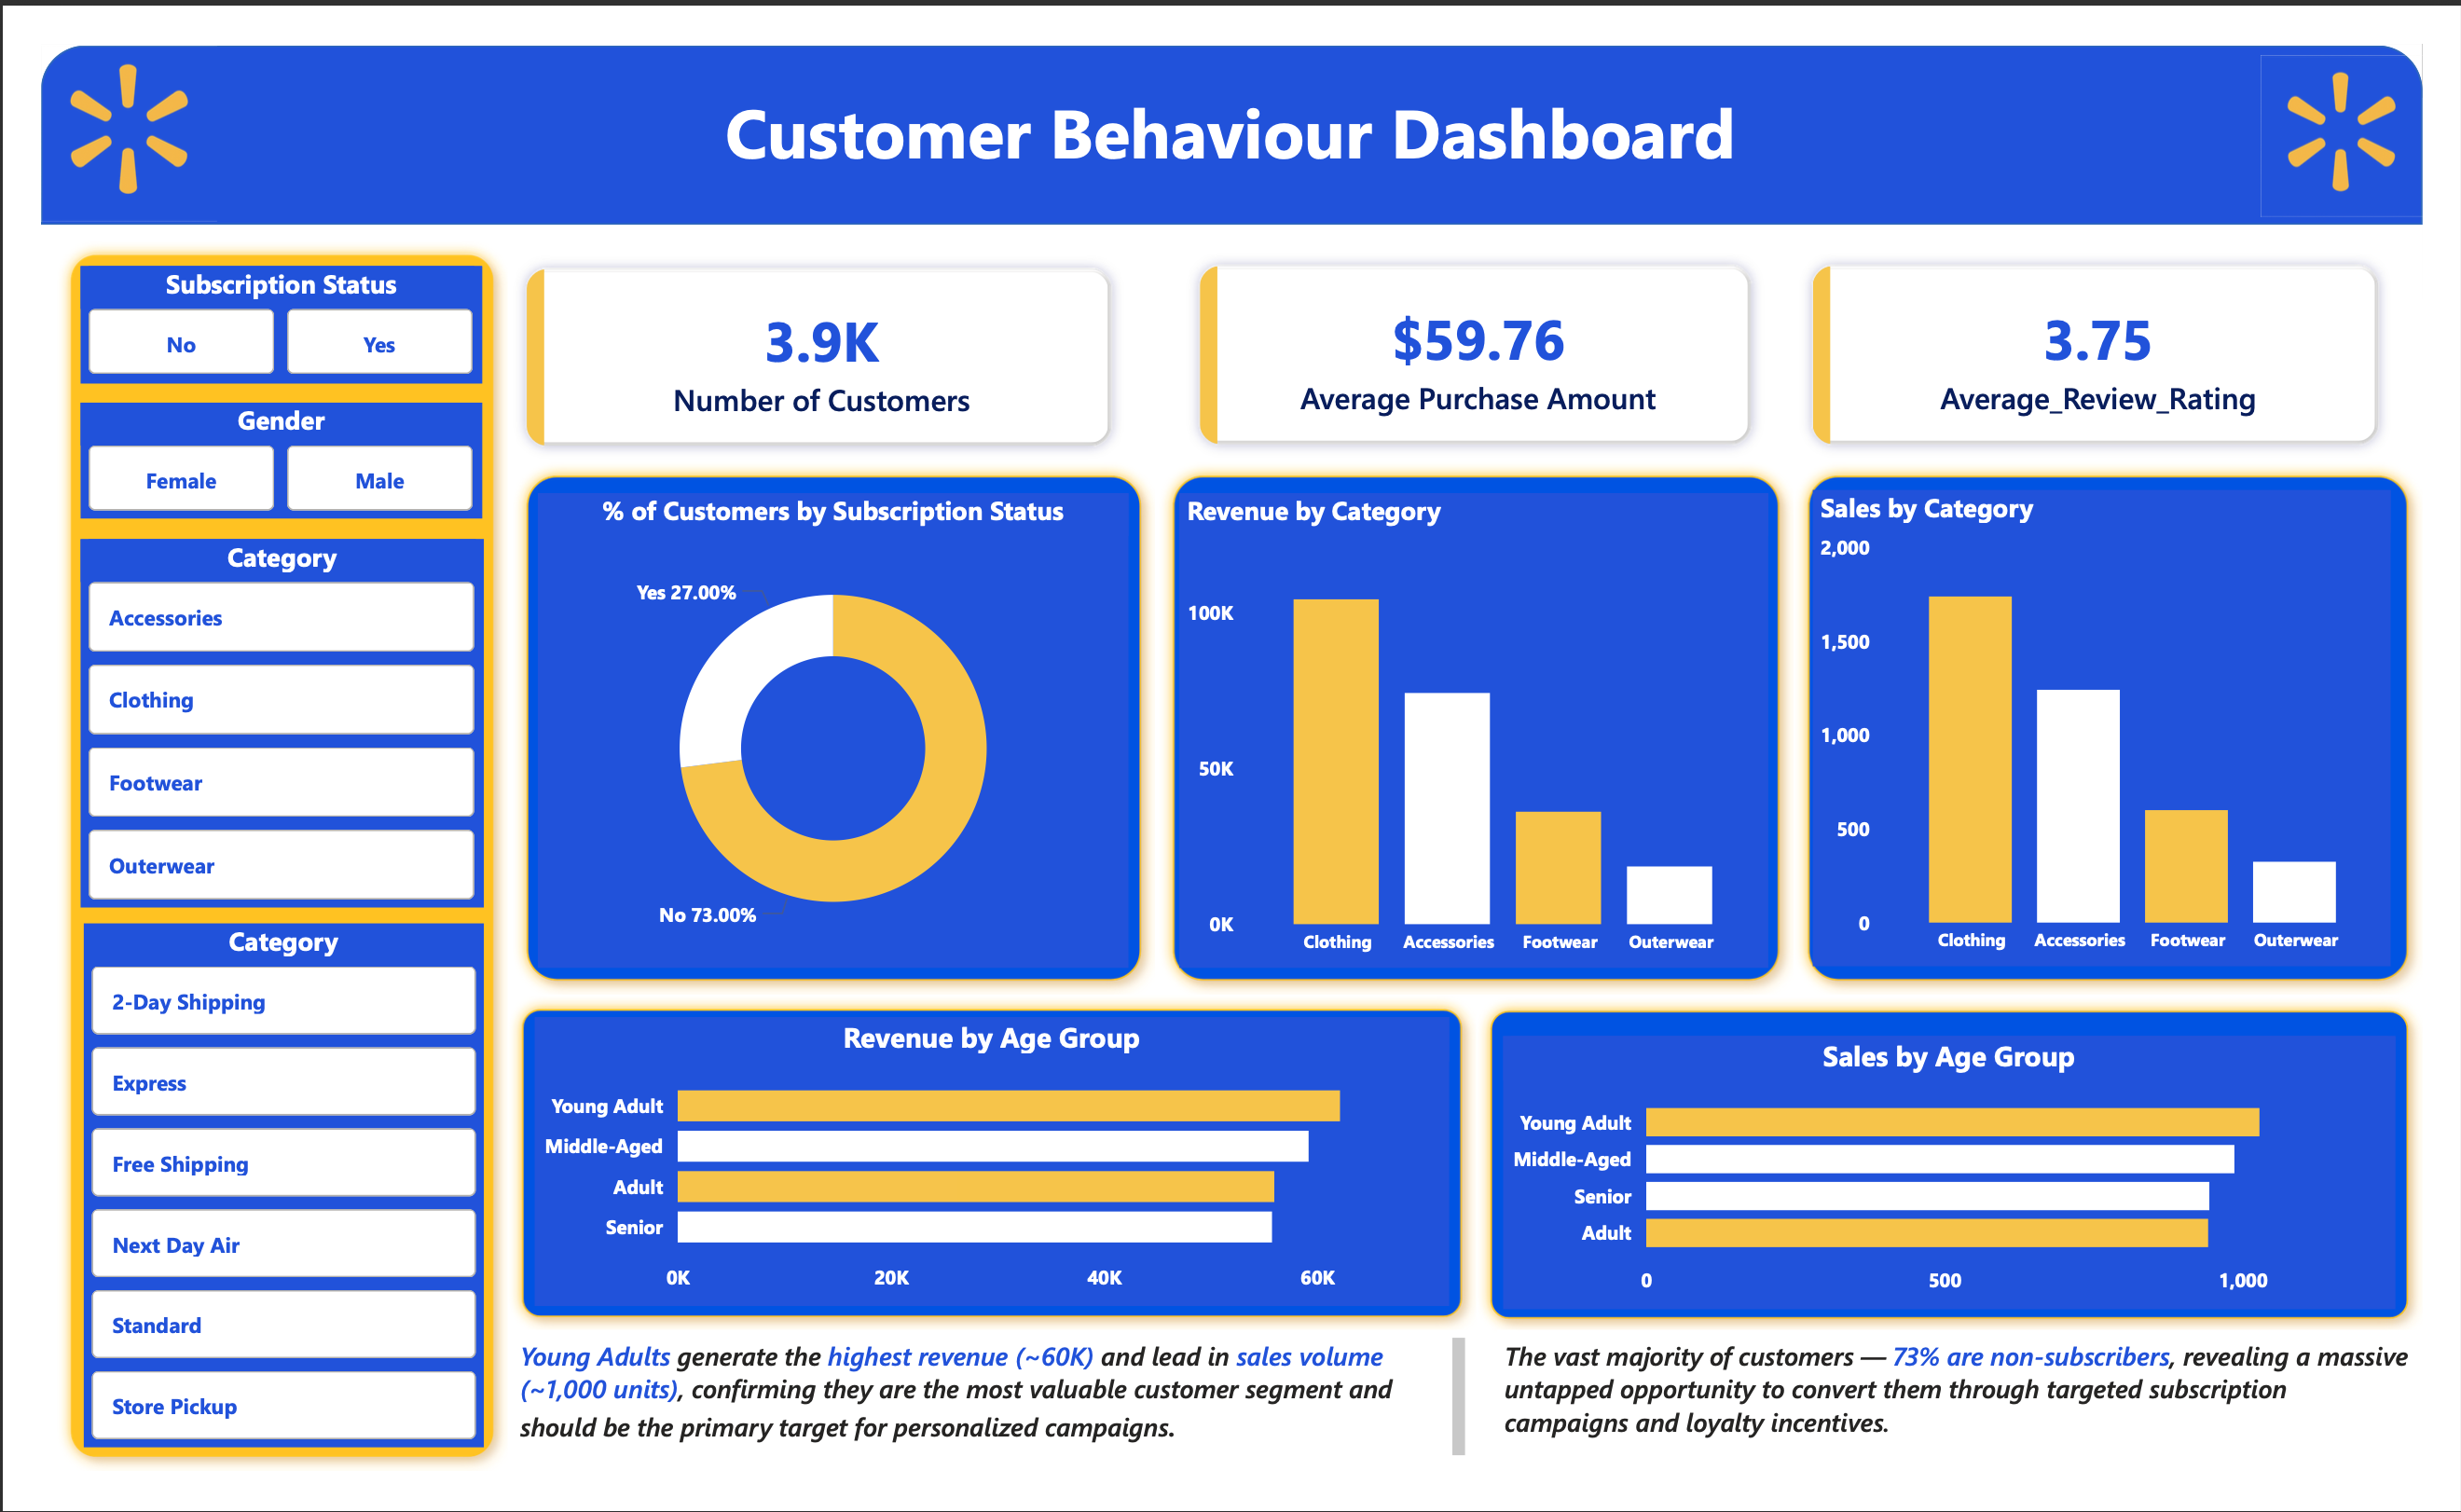

Layout of this report page (visuals, bound fields, positions):
{"tool":"powerbi","page":{"name":"Page 1","canvas":[1500,900],"ordinal":0},"visuals":[{"type":"cardVisual","fields":{"Data":["public customer.Number_Of_Customers"]},"box":[277.9,113.5,424.3,167.3],"z":0},{"type":"cardVisual","fields":{"Data":["public customer.Average_Purchase_Amount"]},"box":[702.2,112.1,403.4,168.8],"z":1000},{"type":"cardVisual","fields":{"Data":["public customer.Average_Review_Rating"]},"box":[1087.6,112.1,412.4,168.8],"z":2000},{"type":"shape","box":[0,1.5,1500,112.1],"z":3000},{"type":"textbox","box":[422.8,20.9,652.9,74.7],"z":4000},{"type":"shape","box":[10.5,124,283.9,775.4],"z":5000},{"type":"shape","box":[297.3,262.9,404.9,336.2],"z":5000,"group":"g3"},{"type":"shape","box":[1104.1,262.9,395.9,336.2],"z":5000,"group":"g5"},{"type":"advancedSlicerVisual","title":"Subscription Status","fields":{"Values":["public customer.subscription_status"]},"box":[25.4,140.4,252.5,73.2],"z":6000},{"type":"shape","box":[703.7,262.9,400.4,336.2],"z":6000,"group":"g4"},{"type":"advancedSlicerVisual","title":"Gender","fields":{"Values":["public customer.gender"]},"box":[25.4,225.6,252.5,73.2],"z":7000},{"type":"clusteredColumnChart","title":"Sales by Category","fields":{"Category":["public customer.category"],"Y":["CountNonNull(public customer.customer_id)"]},"box":[1116.1,280.6,364.5,300.8],"z":7000,"group":"g5"},{"type":"advancedSlicerVisual","title":"Category","fields":{"Values":["public customer.category"]},"box":[25.4,312.3,254,231.6],"z":8000},{"type":"shape","box":[294.3,599.1,609.6,212.2],"z":8000,"group":"g1"},{"type":"shape","box":[904.1,599.7,596.1,212.2],"z":8000,"group":"g2"},{"type":"advancedSlicerVisual","title":"Category","fields":{"Values":["public customer.shipping_type"]},"box":[26.9,554.3,252.5,330.2],"z":9000},{"type":"donutChart","title":"% of Customers by Subscription Status","fields":{"Category":["public customer.subscription_status"],"Y":["CountNonNull(public customer.customer_id)"]},"box":[313.7,282.4,372,299],"z":10000,"group":"g3"},{"type":"group","id":"g1","title":"Group 1","box":[294.3,599.1,609.6,212.2],"z":10000},{"type":"clusteredColumnChart","title":"Revenue by Category","fields":{"Category":["public customer.category"],"Y":["Sum(public customer.purchase_amount)"]},"box":[717.1,282.4,370.5,299],"z":11000,"group":"g4"},{"type":"group","id":"g2","title":"Group 2","box":[904.1,599.7,596.1,212.2],"z":11000},{"type":"group","id":"g3","title":"Group 3","box":[297.3,262.9,404.9,336.2],"z":12000},{"type":"group","id":"g4","title":"Group 4","box":[703.7,262.9,400.4,336.2],"z":13000},{"type":"clusteredBarChart","title":"Sales by Age Group","fields":{"Category":["public customer.age_group"],"Y":["CountNonNull(public customer.customer_id)"]},"box":[920.9,624.6,561.8,171.8],"z":13000,"group":"g2"},{"type":"clusteredBarChart","title":"Revenue by Age Group","fields":{"Category":["public customer.age_group"],"Y":["Sum(public customer.purchase_amount)"]},"box":[310.8,613.3,576.5,182.1],"z":13001,"group":"g1"},{"type":"group","id":"g5","title":"Group 5","box":[1104.1,262.9,395.9,336.2],"z":14000},{"type":"textbox","box":[297.3,809.8,605.1,89.6],"z":15000},{"type":"textbox","box":[917.3,809.8,582.7,89.6],"z":16000},{"type":"image","box":[1398.4,1.5,101.6,112.1],"z":17000},{"type":"image","box":[0,0,110.6,112.1],"z":18000}]}

Visuals, with their boxes in screenshot pixels (x1, y1, x2, y2), scaled from the page's 1500x900 canvas onto the 2461x1512 screenshot:
cardVisual - public customer.Number_Of_Customers: x1=456 y1=191 x2=1152 y2=472
cardVisual - public customer.Average_Purchase_Amount: x1=1152 y1=188 x2=1814 y2=472
cardVisual - public customer.Average_Review_Rating: x1=1784 y1=188 x2=2460 y2=472
shape: x1=0 y1=3 x2=2460 y2=191
textbox: x1=694 y1=35 x2=1765 y2=160
shape: x1=17 y1=208 x2=483 y2=1511
shape: x1=488 y1=442 x2=1152 y2=1007
shape: x1=1811 y1=442 x2=2460 y2=1007
"Subscription Status" advancedSlicerVisual: x1=42 y1=236 x2=456 y2=359
shape: x1=1155 y1=442 x2=1811 y2=1007
"Gender" advancedSlicerVisual: x1=42 y1=379 x2=456 y2=502
"Sales by Category" clusteredColumnChart: x1=1831 y1=472 x2=2429 y2=977
"Category" advancedSlicerVisual: x1=42 y1=525 x2=459 y2=914
shape: x1=483 y1=1007 x2=1483 y2=1363
shape: x1=1483 y1=1008 x2=2460 y2=1364
"Category" advancedSlicerVisual: x1=44 y1=931 x2=459 y2=1486
"% of Customers by Subscription Status" donutChart: x1=515 y1=474 x2=1125 y2=977
"Group 1" group: x1=483 y1=1007 x2=1483 y2=1363
"Revenue by Category" clusteredColumnChart: x1=1176 y1=474 x2=1784 y2=977
"Group 2" group: x1=1483 y1=1008 x2=2460 y2=1364
"Group 3" group: x1=488 y1=442 x2=1152 y2=1007
"Group 4" group: x1=1155 y1=442 x2=1811 y2=1007
"Sales by Age Group" clusteredBarChart: x1=1511 y1=1050 x2=2433 y2=1338
"Revenue by Age Group" clusteredBarChart: x1=510 y1=1030 x2=1456 y2=1336
"Group 5" group: x1=1811 y1=442 x2=2460 y2=1007
textbox: x1=488 y1=1360 x2=1480 y2=1511
textbox: x1=1505 y1=1360 x2=2460 y2=1511
image: x1=2294 y1=3 x2=2460 y2=191
image: x1=0 y1=0 x2=182 y2=188
